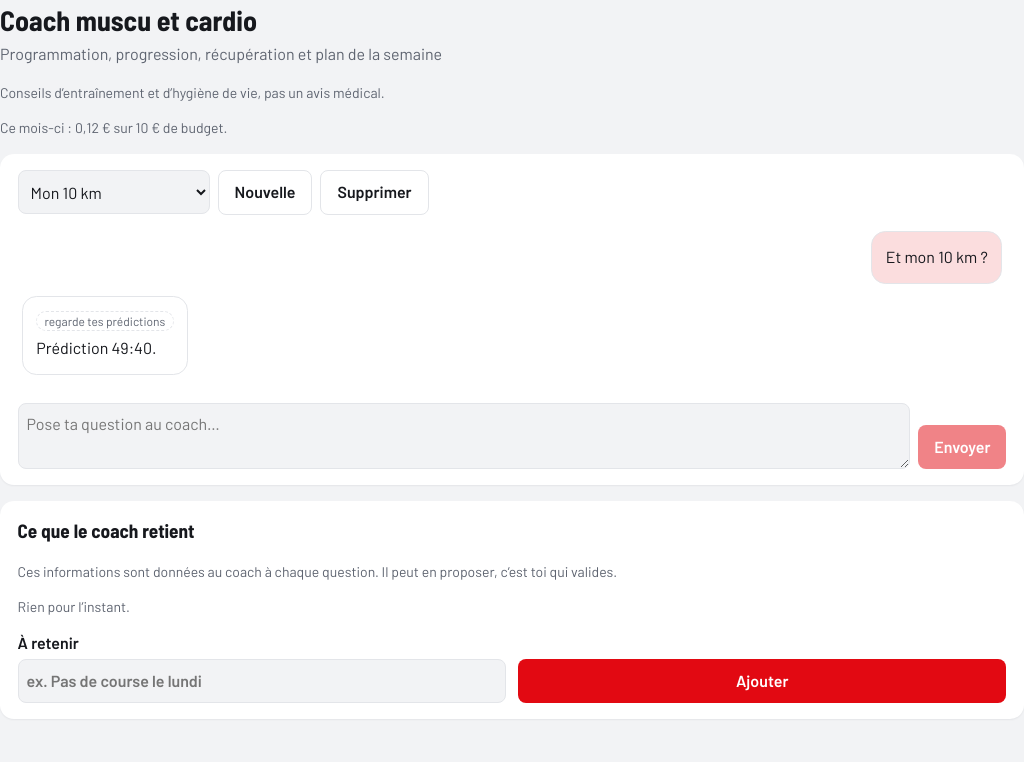
Test: CoachPage › reopens the last conversation and shows an error from the coach
The width and height of the screenshot is (1024, 762).
Expected: the text "Prédiction 49:40." is shown, left=36, top=336, right=174, bottom=360
Expected: the dropdown shows "Mon 10 km", left=18, top=170, right=210, bottom=214
In the text box labelled "ta question": (464, 436) left=18, top=403, right=910, bottom=469, type "Et demain ?"
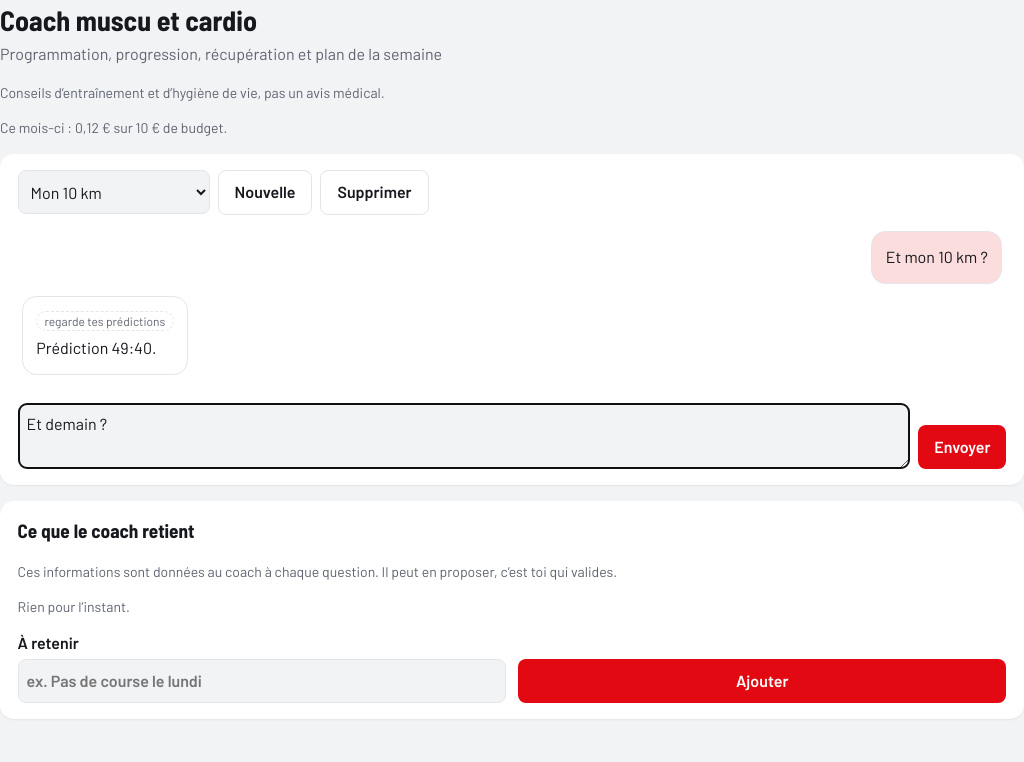
Click the button "Envoyer": (962, 447) left=918, top=425, right=1006, bottom=469
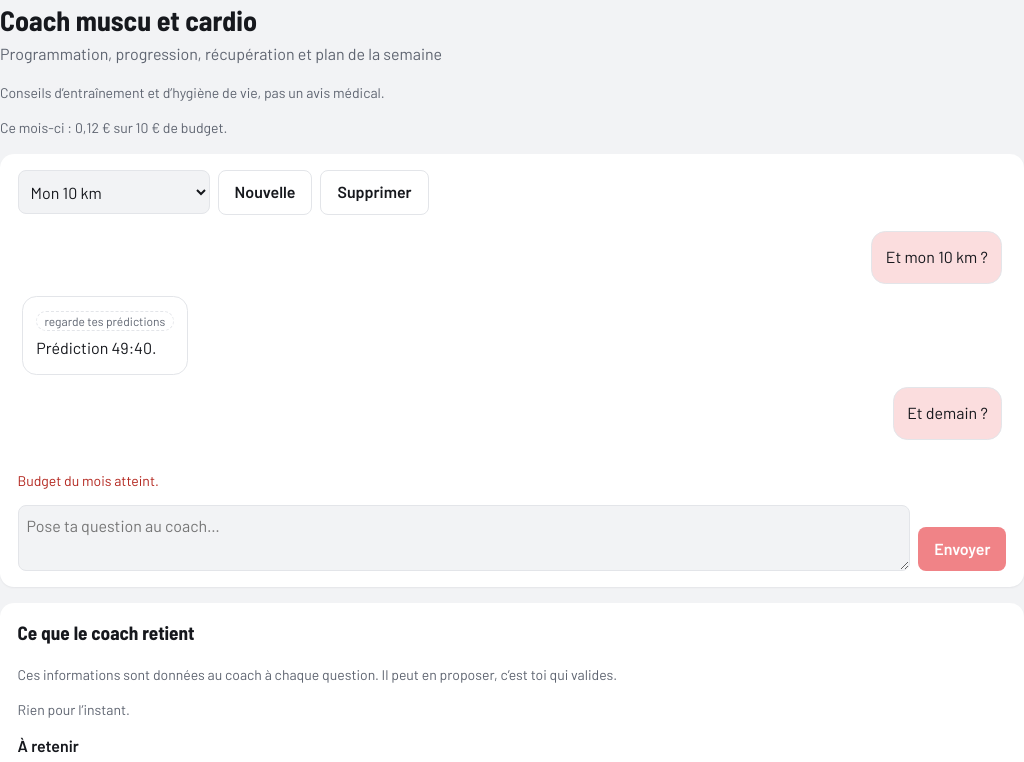
Result: the message "Budget du mois atteint." is shown at left=18, top=472, right=159, bottom=489
